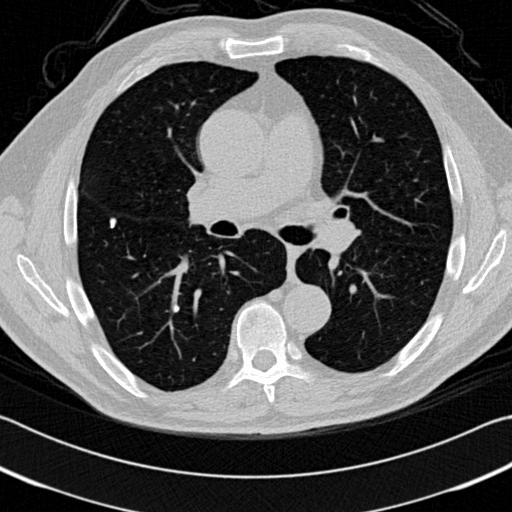nodule: (106, 216, 120, 230)
